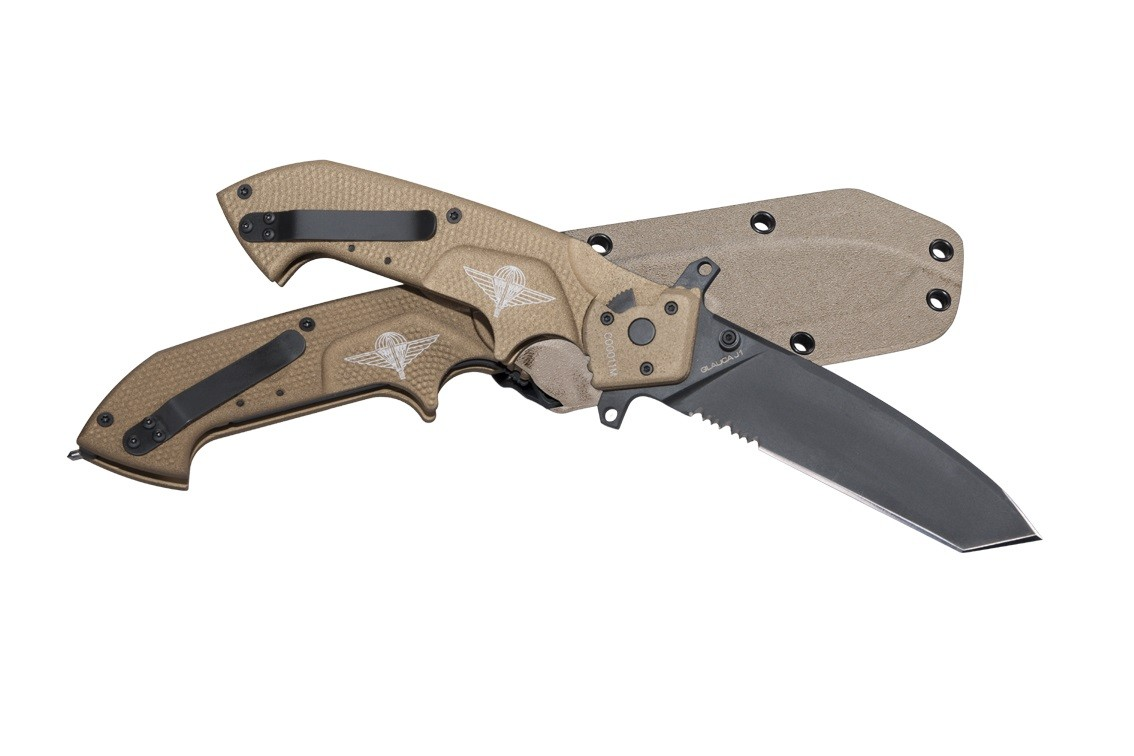knife: (591, 281, 1084, 581)
